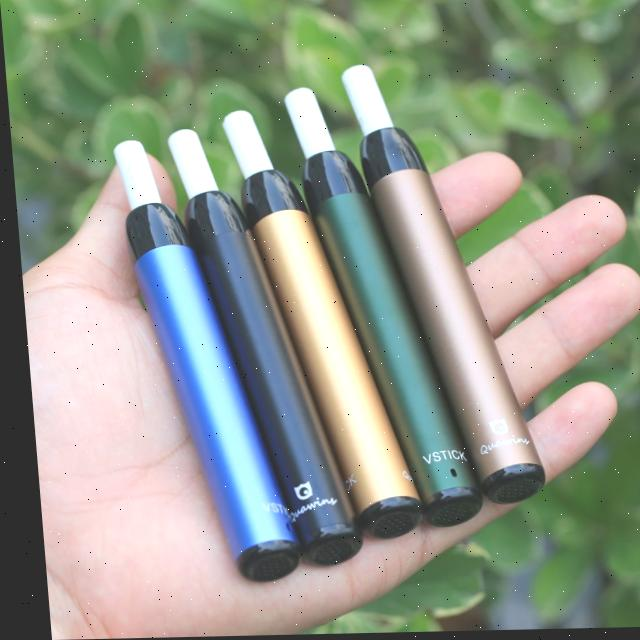vape: (342, 67, 538, 506), (282, 89, 473, 530), (219, 111, 415, 540), (164, 130, 353, 568), (110, 141, 291, 582)
